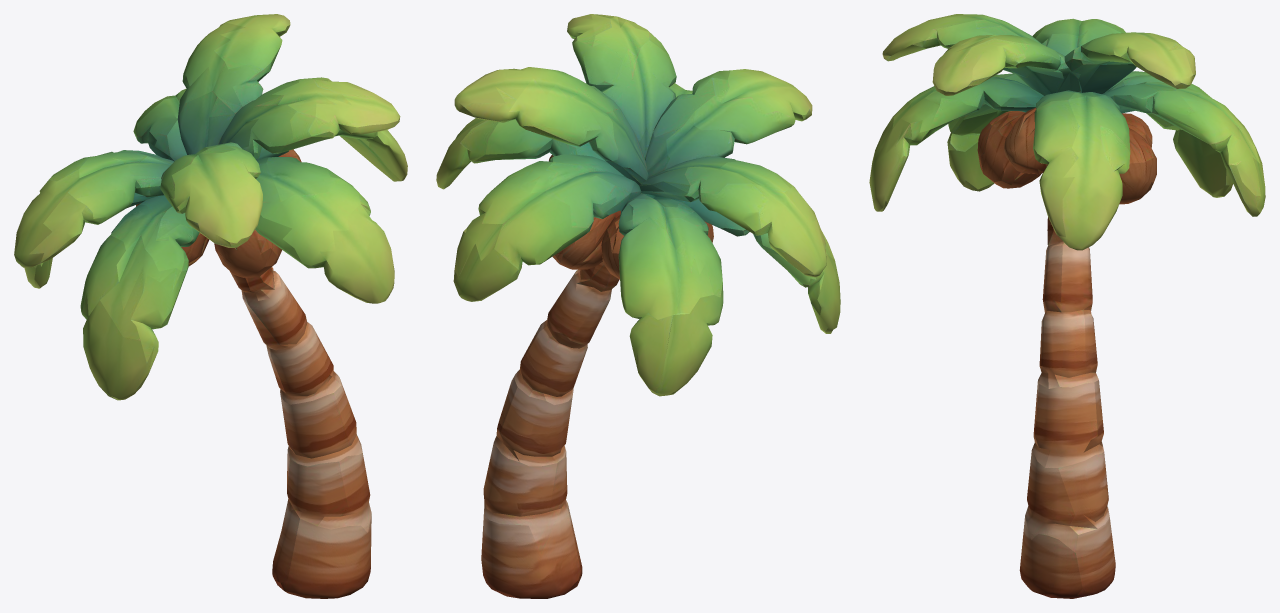
The model's file is palm.fbx.
3 renders of one model, left to right at view 1: azimuth 30°, elevation 25°; view 2: azimuth 150°, elevation 25°; view 3: azimuth 270°, elevation 25°, orthographic. The views are drawn at different scales.
Parts seen in each view (by area): view 1: Mesh_0; view 2: Mesh_0; view 3: Mesh_0.
Part boxes in pixels (x1=…): Mesh_0: x1=14, y1=14, x2=407, y2=598; Mesh_0: x1=436, y1=14, x2=840, y2=598; Mesh_0: x1=869, y1=14, x2=1265, y2=598.
Bounding box in the file's own units: 1.4 × 1.9 × 1.29.
1 material, 1 textured.
